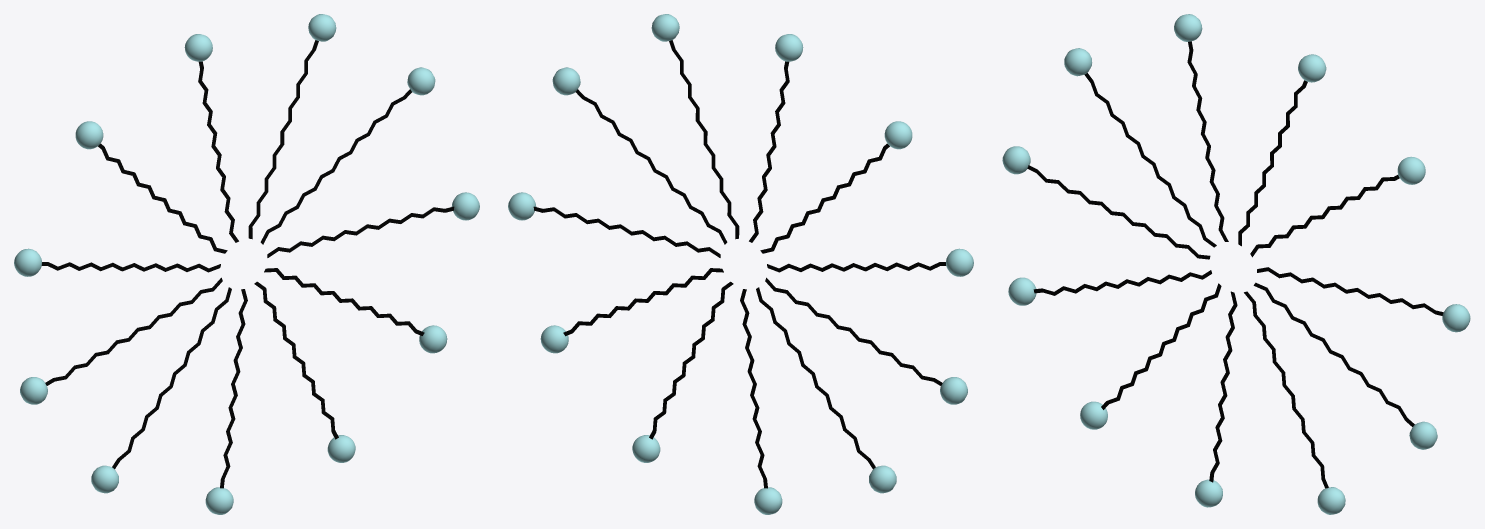
The model's file is micells balls.fbx.
The picture shows the model from 3 angles, left to right: view 1: azimuth 30°, elevation 25°; view 2: azimuth 150°, elevation 25°; view 3: azimuth 330°, elevation 25°; orthographic projection.
Parts seen in each view (by area): view 1: micells; view 2: micells; view 3: micells.
Part boxes in pixels (x1,y1,x2,y2): micells: [14, 14, 479, 514]; micells: [508, 14, 973, 514]; micells: [1002, 14, 1470, 514].
Size of the model in its own units: 123 by 123 by 6.48.
